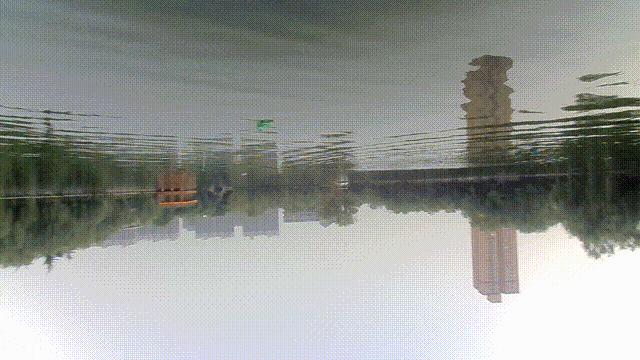Plastic: (256, 119, 272, 133)
